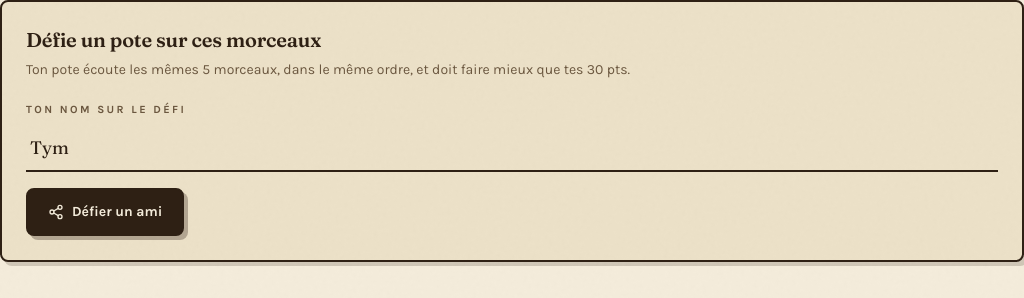
Test case: ChallengeInvite › copie acceptee : le bouton confirme
What coordinates should you click on to do the following:
click the button "Défier un ami"
I would click on:
 (105, 212)
Its box is top-left (26, 188), bottom-right (184, 236).
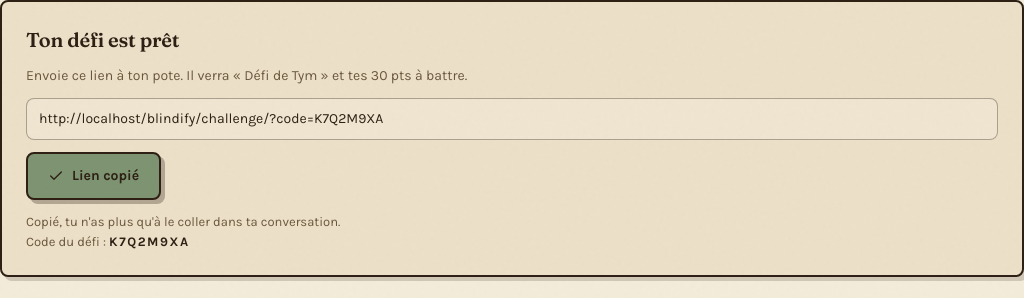
Check: the button "Lien copié" is shown, box top-left (26, 152), bottom-right (161, 200)
